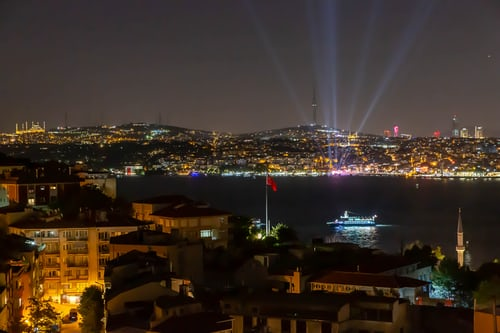Flag: (265, 174, 278, 191)
